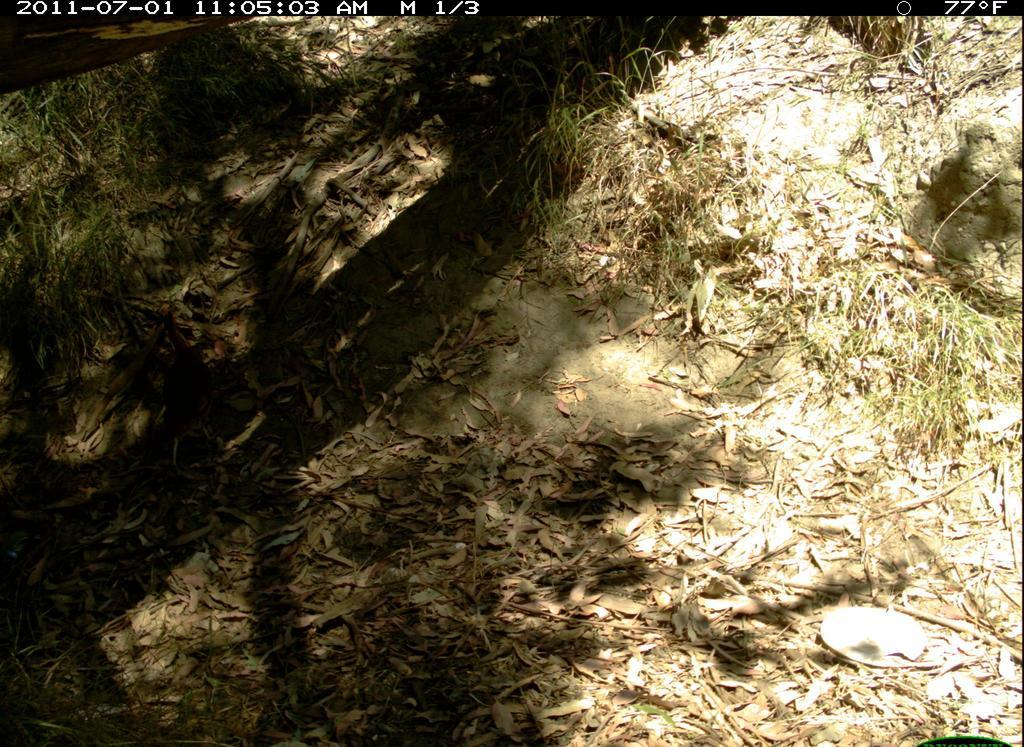bird: (150, 304, 225, 451)
